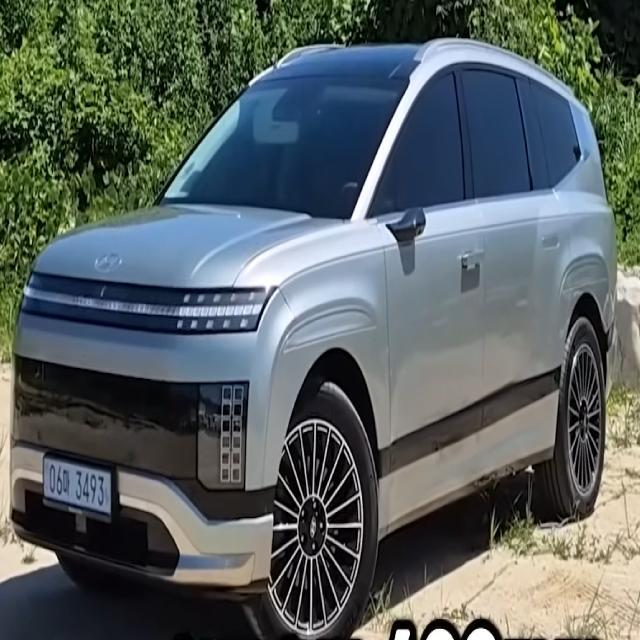car: (30, 443, 137, 531)
carev: (104, 465, 115, 524), (42, 451, 50, 510)
